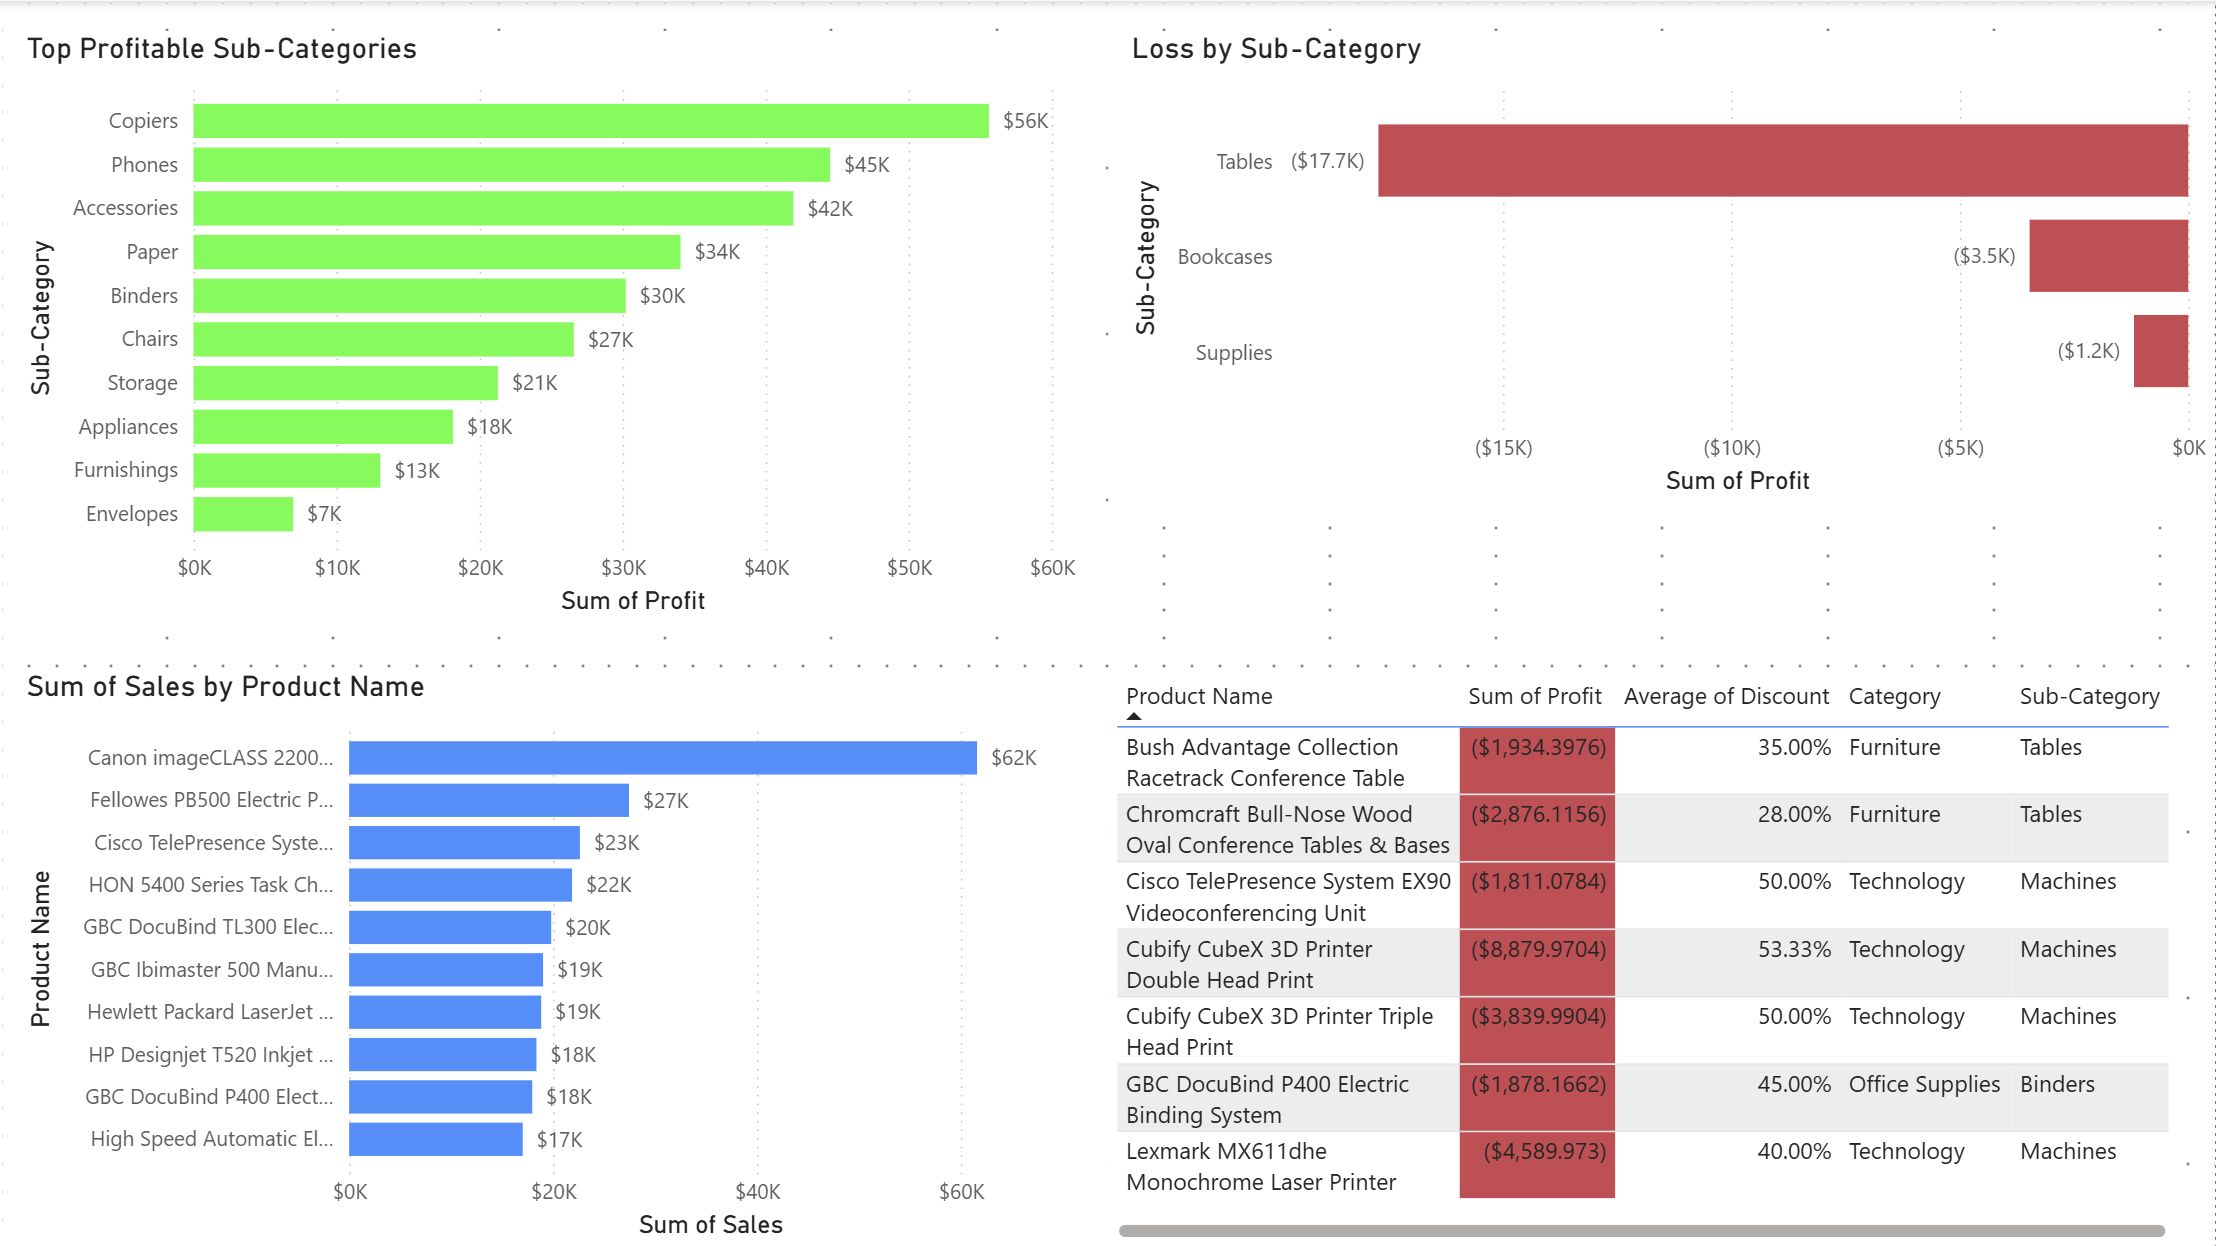

What the dashboard file says about the page in this screenshot:
{"tool":"powerbi","page":{"name":"Product & Category Analysis","canvas":[1280,720],"ordinal":2},"visuals":[{"type":"clusteredBarChart","title":"Top Profitable Sub-Categories","fields":{"Category":["superstore_cleaned.Sub-Category"],"Y":["Sum(superstore_cleaned.Profit)"]},"box":[10.4,17.3,629.2,342.4],"z":0},{"type":"clusteredBarChart","title":"Loss by Sub-Category","fields":{"Category":["superstore_cleaned.Sub-Category"],"Y":["Sum(superstore_cleaned.Profit)"]},"box":[648.9,17.8,631.1,272.8],"z":1},{"type":"clusteredBarChart","fields":{"Category":["superstore_cleaned.Product Name"],"Y":["Sum(superstore_cleaned.Sales)"]},"box":[10.4,386.3,629.2,334.3],"z":2},{"type":"tableEx","fields":{"Values":["superstore_cleaned.Product Name","Sum(superstore_cleaned.Profit)","Avg(superstore_cleaned.Discount)","superstore_cleaned.Category","superstore_cleaned.Sub-Category"]},"box":[639.6,386.3,618.8,334.3],"z":3}]}

Visuals, with their boxes in screenshot pixels (x1, y1, x2, y2), scaled from the page's 1280x720 canvas onto the 2216x1246 screenshot:
"Top Profitable Sub-Categories" clusteredBarChart: (x1=18, y1=30, x2=1107, y2=622)
"Loss by Sub-Category" clusteredBarChart: (x1=1123, y1=31, x2=2215, y2=503)
clusteredBarChart - superstore_cleaned.Product Name x Sum(superstore_cleaned.Sales): (x1=18, y1=669, x2=1107, y2=1245)
tableEx - superstore_cleaned.Product Name x Sum(superstore_cleaned.Profit): (x1=1107, y1=669, x2=2179, y2=1245)
